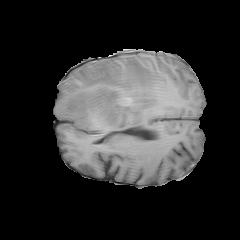glioma: (64, 56, 164, 130)
